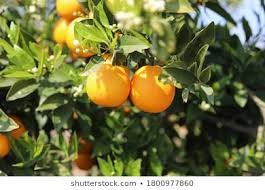orange: (130, 59, 180, 122), (83, 65, 132, 110), (64, 20, 104, 57)
